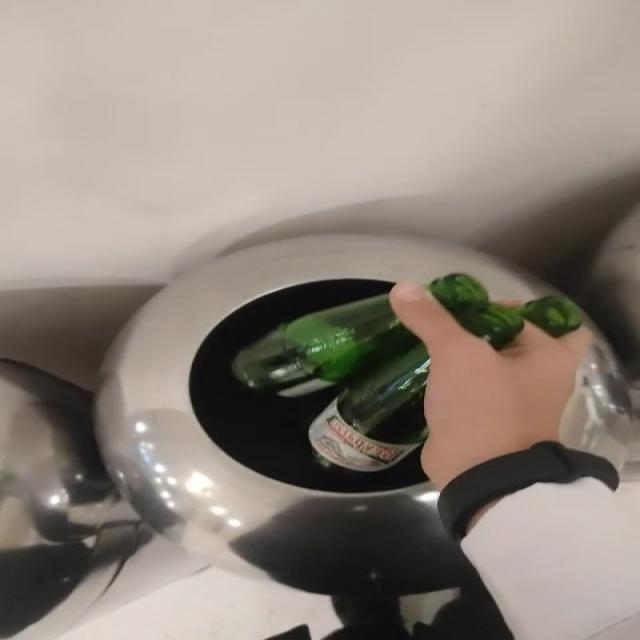glass: (232, 294, 429, 472), (429, 274, 584, 350)
